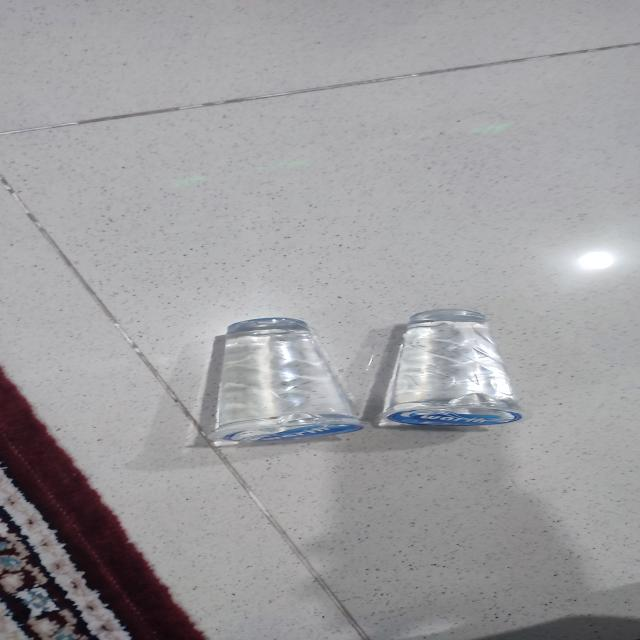air gelas: (199, 313, 375, 448), (377, 307, 530, 431)
